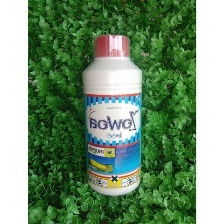insecticide: (78, 30, 148, 198)
